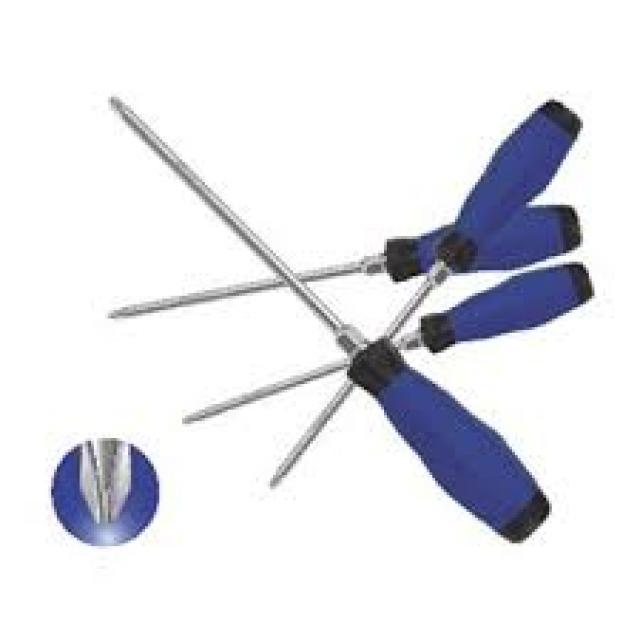screwdriver: (104, 94, 554, 549), (263, 98, 585, 491), (173, 258, 594, 430), (98, 200, 593, 323)
